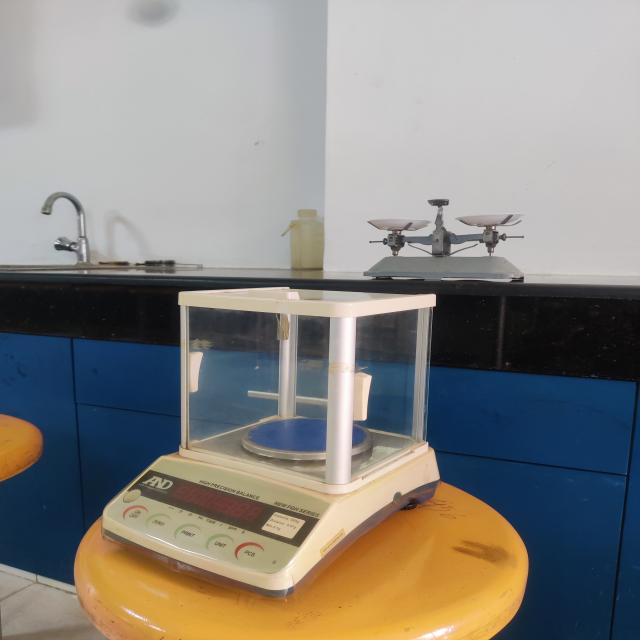Mechanical_Balance_Scale: (334, 181, 546, 307)
Precision_Weight_Scale: (73, 261, 476, 622)
